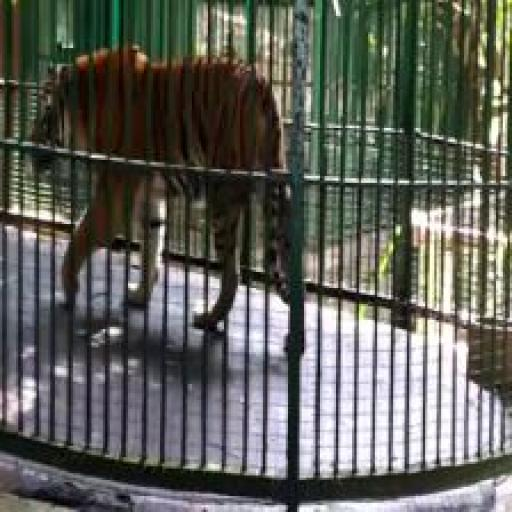Tiger: (18, 46, 312, 379)
